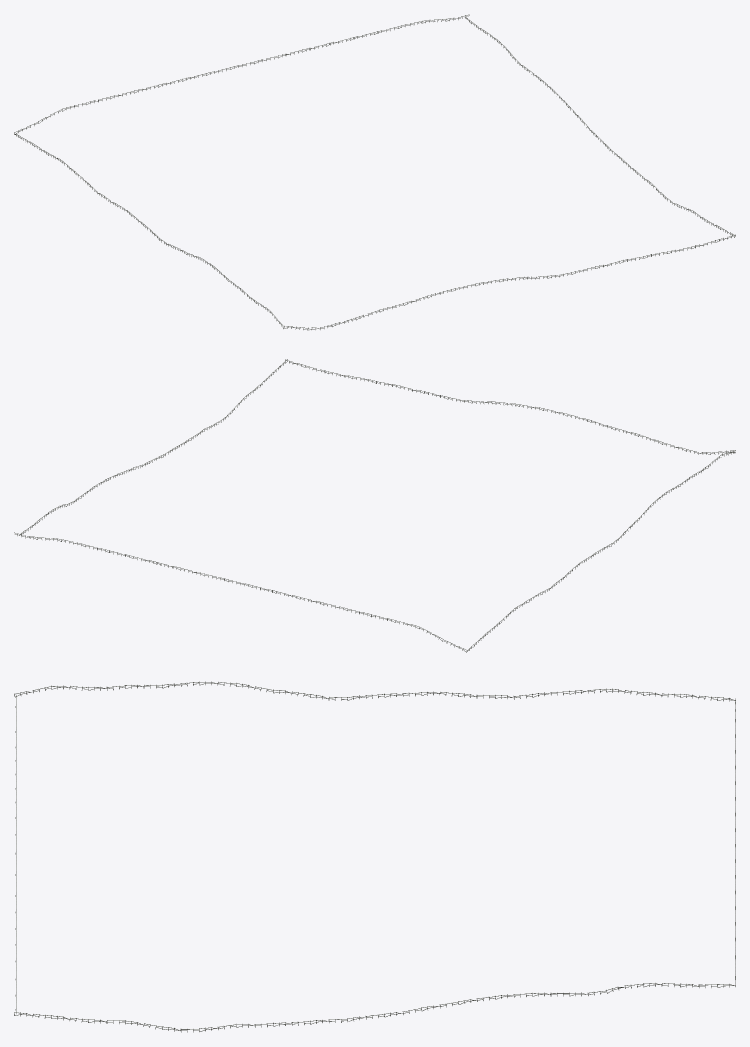
The model's file is fence.glb.
3 views of the same model, one above another, from view 1: azimuth 30°, elevation 25°; view 2: azimuth 150°, elevation 25°; view 3: azimuth 270°, elevation 25° (orthographic). The views are drawn at different scales.
Visible parts, largest first — view 1: fence6_Material_0.042; view 2: fence6_Material_0.042; view 3: fence6_Material_0.042.
Part boxes in pixels (box(x1,y1,x2,y2)): fence6_Material_0.042: box(14, 14, 735, 330); fence6_Material_0.042: box(14, 359, 735, 652); fence6_Material_0.042: box(14, 681, 735, 1032).
Size of the model in its own units: 808 by 72.62 by 829.
1 material, 1 textured.
